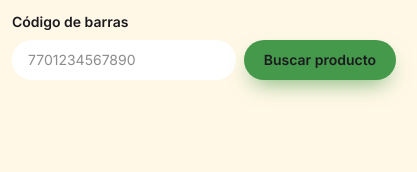
Test: shows an error and does not submit an invalid code
This screenshot has width=417, height=172.
Type "123" into the field labelled "Código de barras". click: (124, 60)
box: [12,40,236,80]
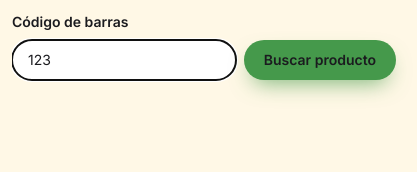
Click the button "Buscar producto". click: (320, 60)
box: [244,40,396,80]
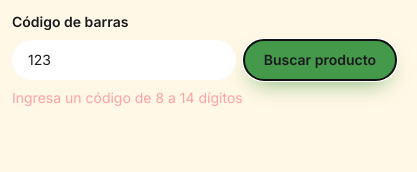
Expected: the text "Ingresa un código de 8 a 14 dígitos" is shown, [12,89,243,106]
